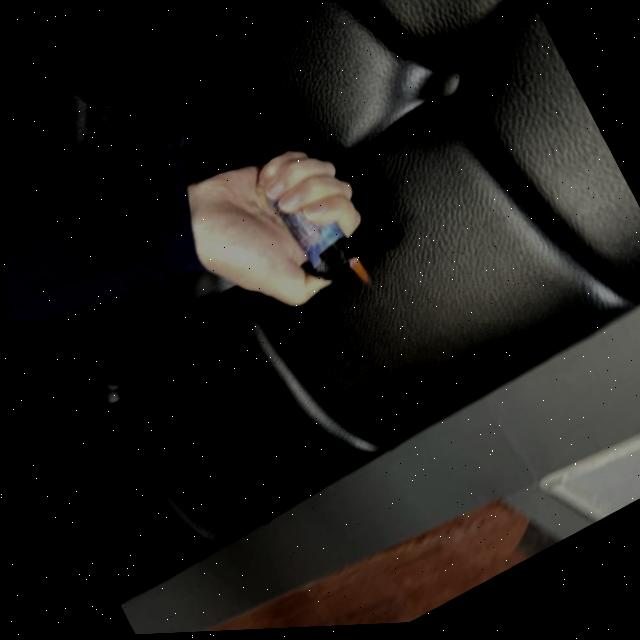Fire: (344, 260, 369, 292)
